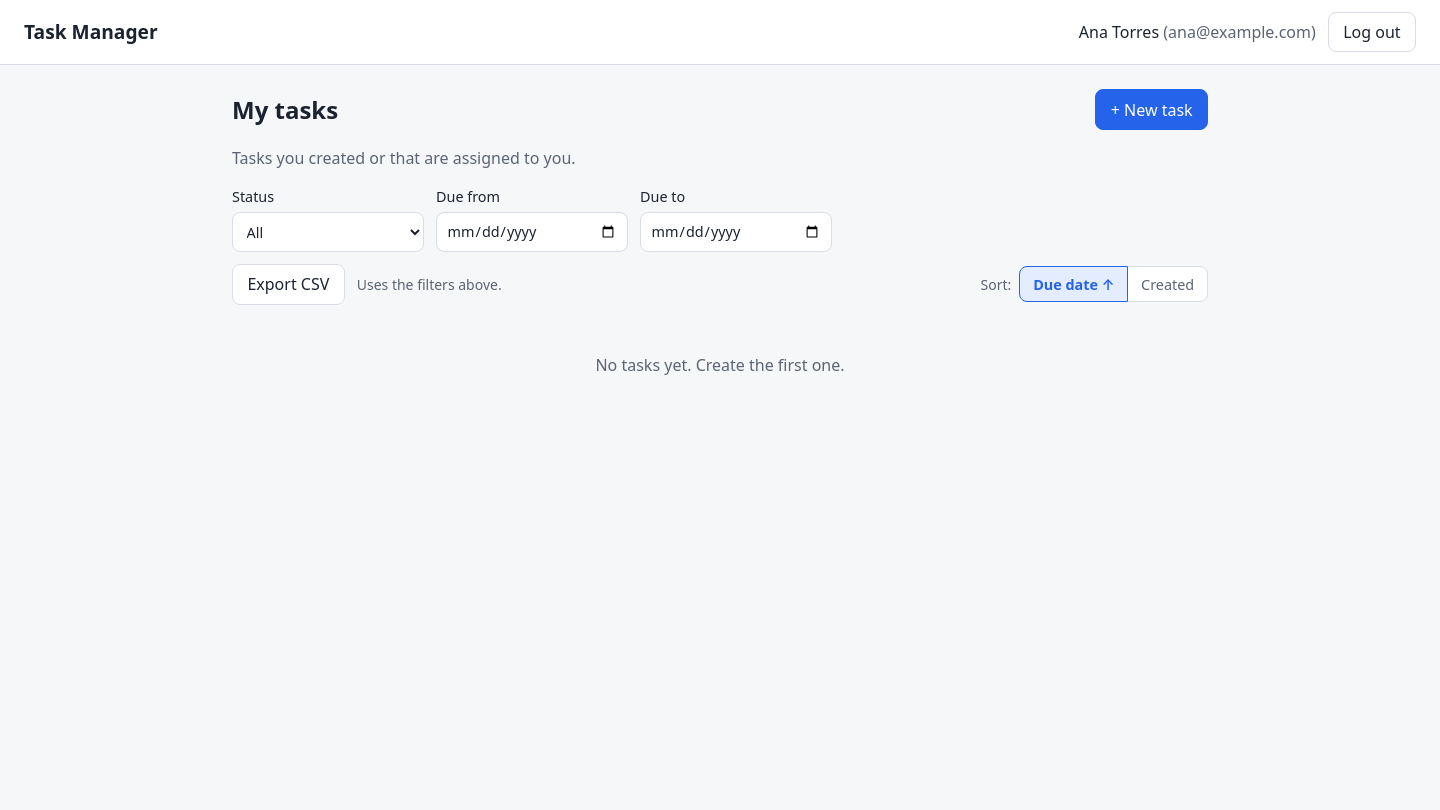
it: notifications › confirms a created task with a notification that can be closed
The width and height of the screenshot is (1440, 810).
Click the button "+ New task" at (1152, 110), box [1095,89,1208,130]
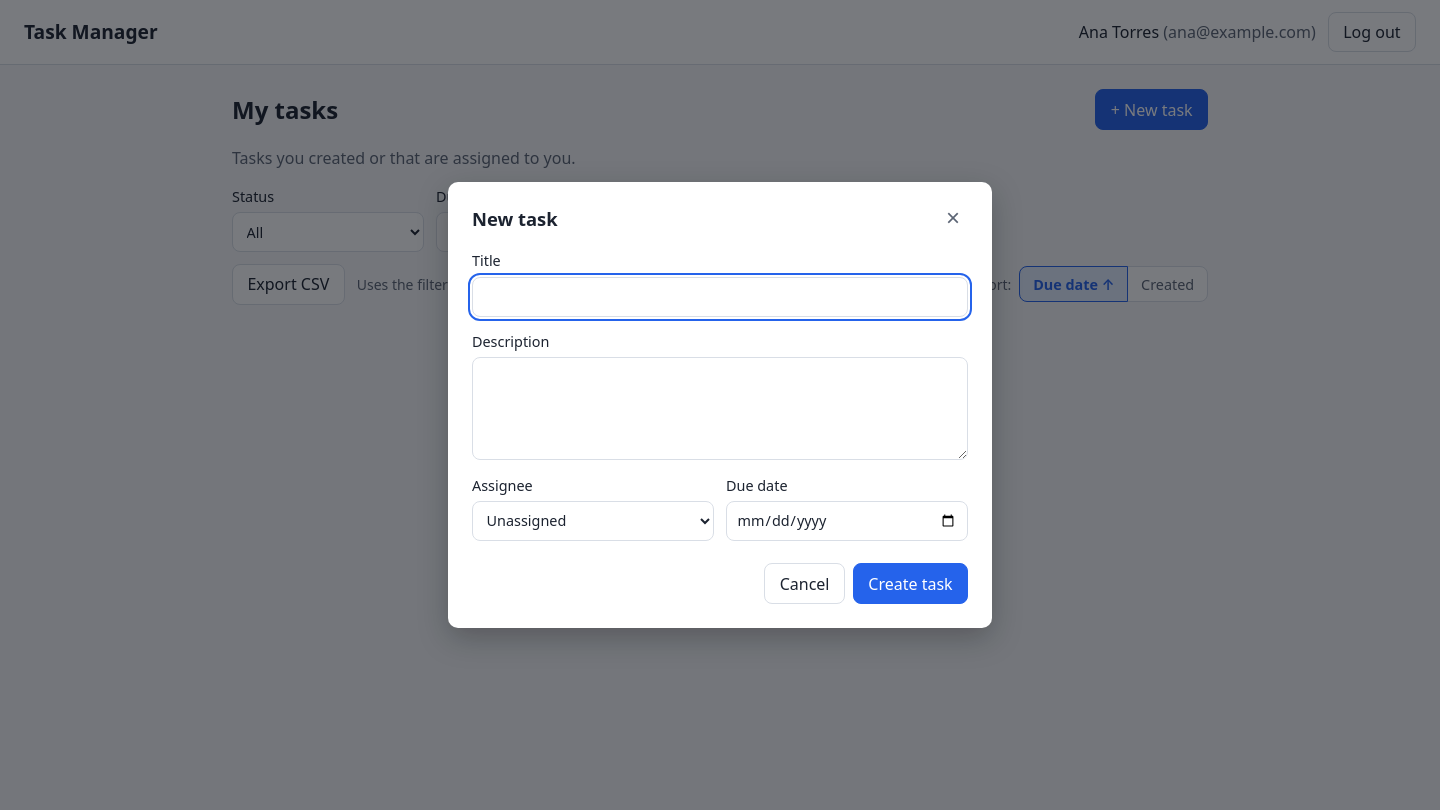
Type "Buy milk" into the field labelled "Title" at (720, 297), box [472,277,968,317]
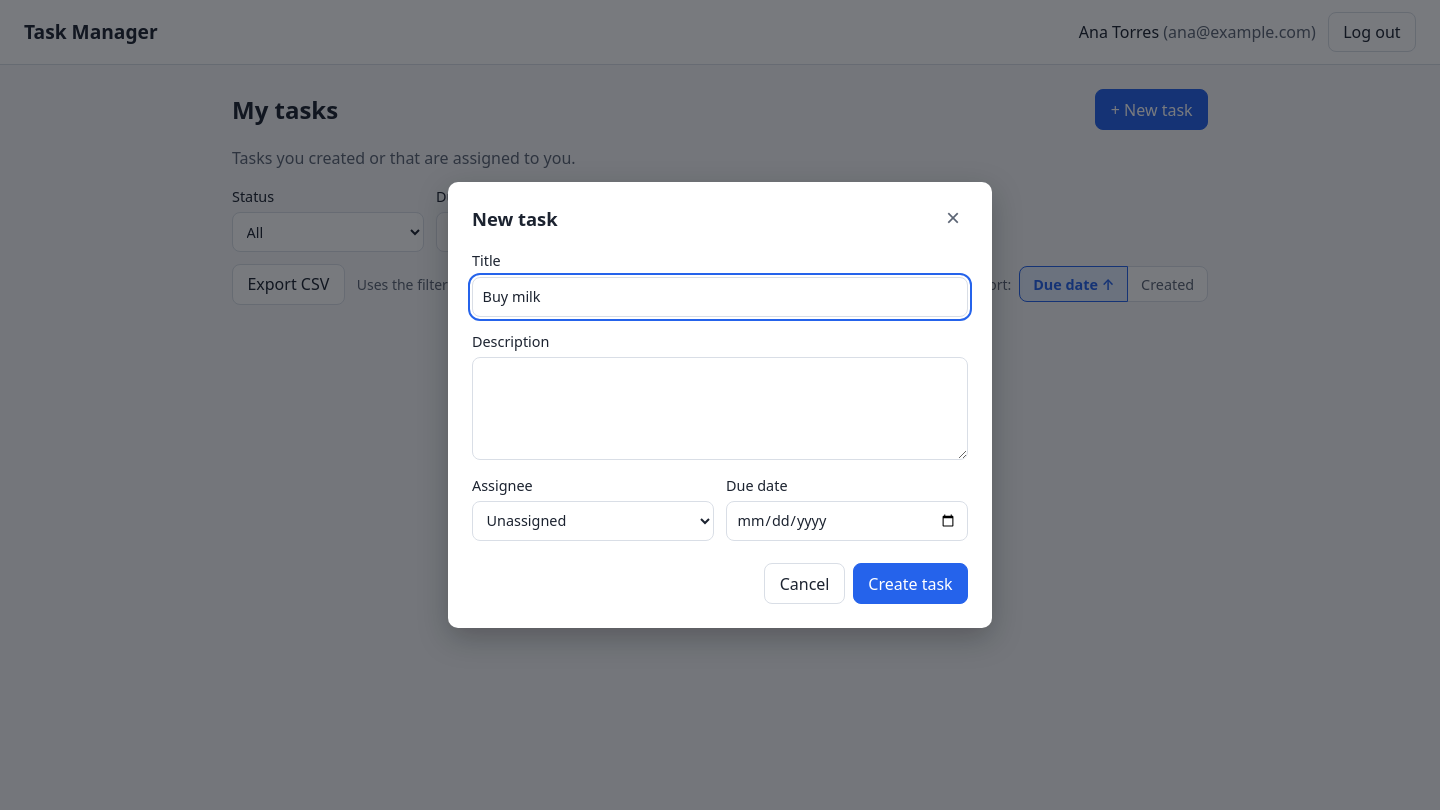
Click the button "Create task" at (910, 584), box [853,563,968,604]
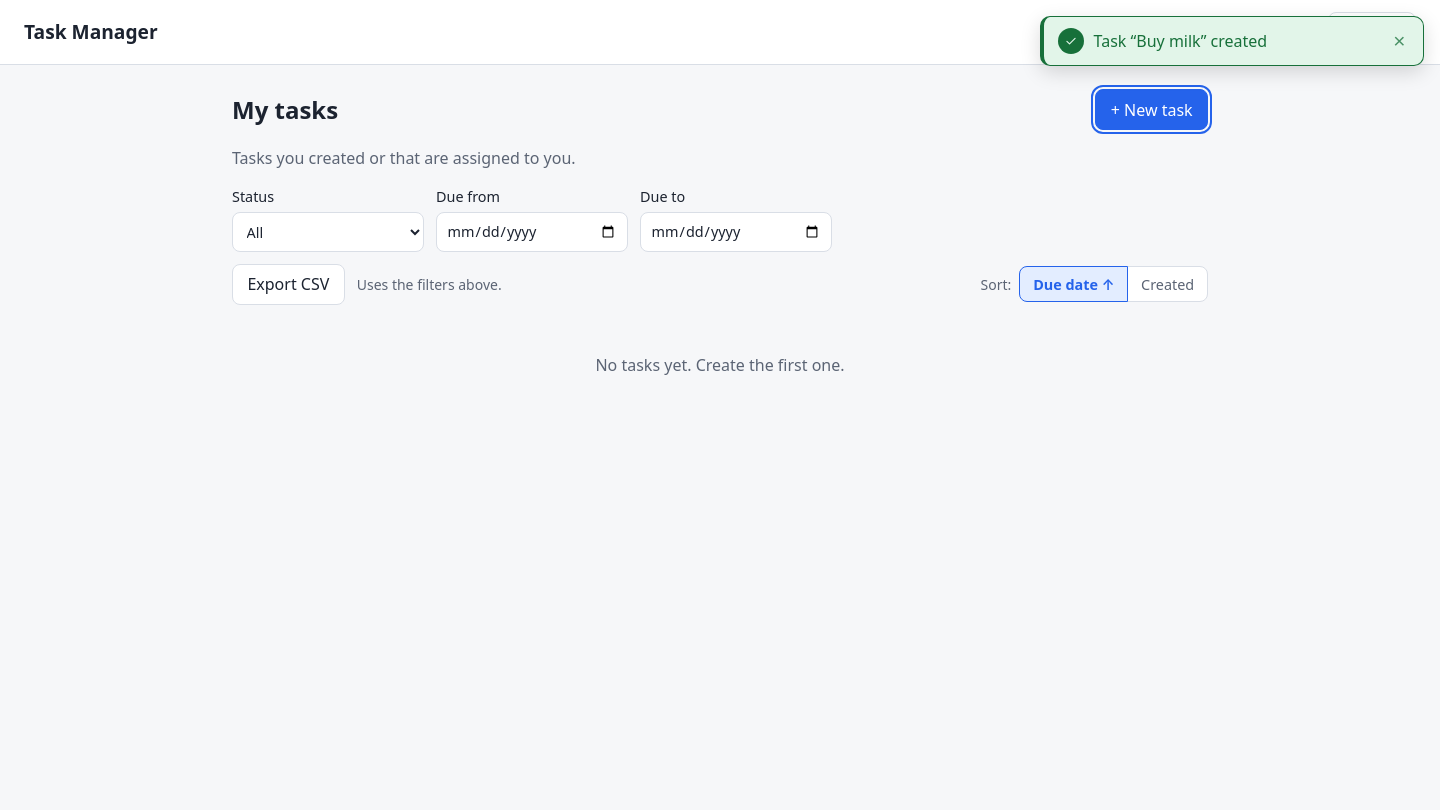
expect the text "Task “Buy milk” created" is shown: met, box [1094,30,1267,52]
Click the button named "Dismiss notification" at (1399, 41), box [1388,29,1411,53]
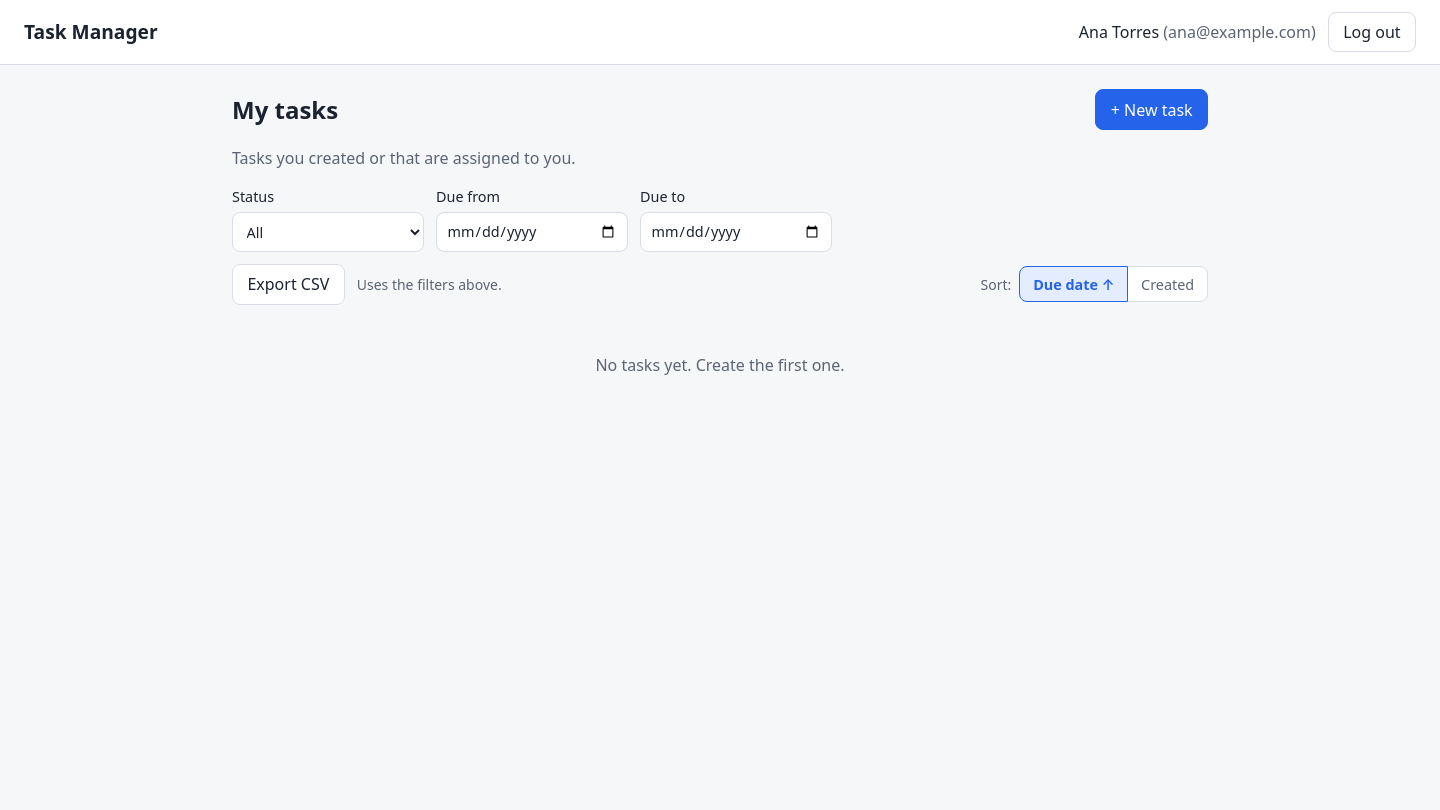
expect the text "Task “Buy milk” created" is gone: met
